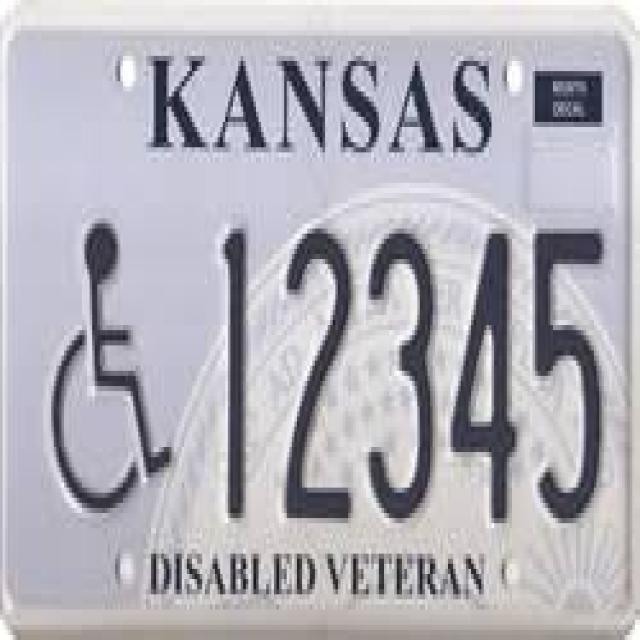symbol_of_access: (36, 198, 187, 538)
